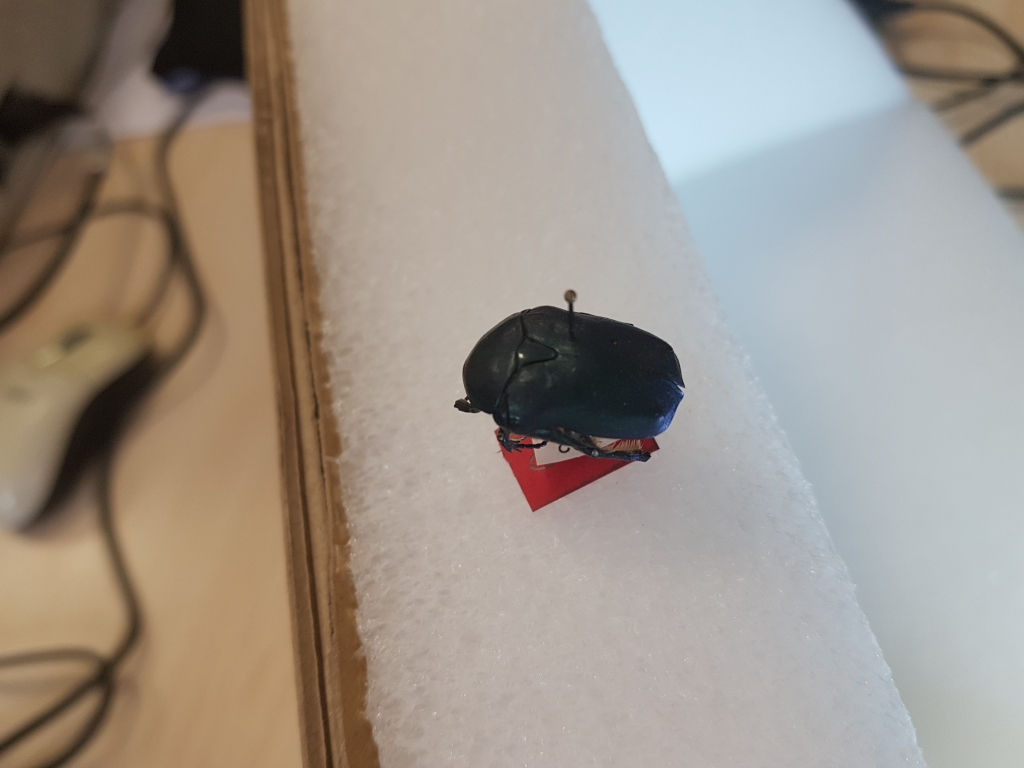Protaetia_afflicta: (445, 299, 686, 463)
